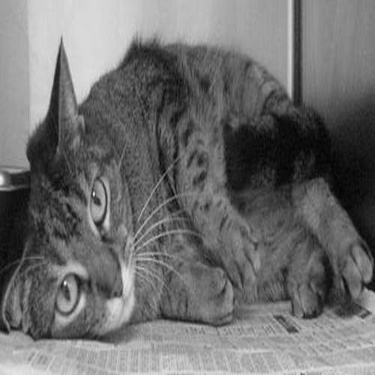cat: (1, 21, 370, 341)
